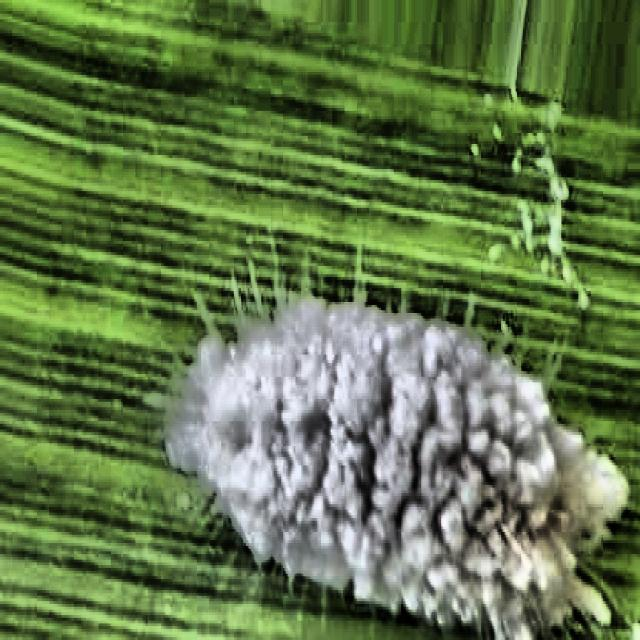Mealy-bug: (134, 218, 640, 640)
